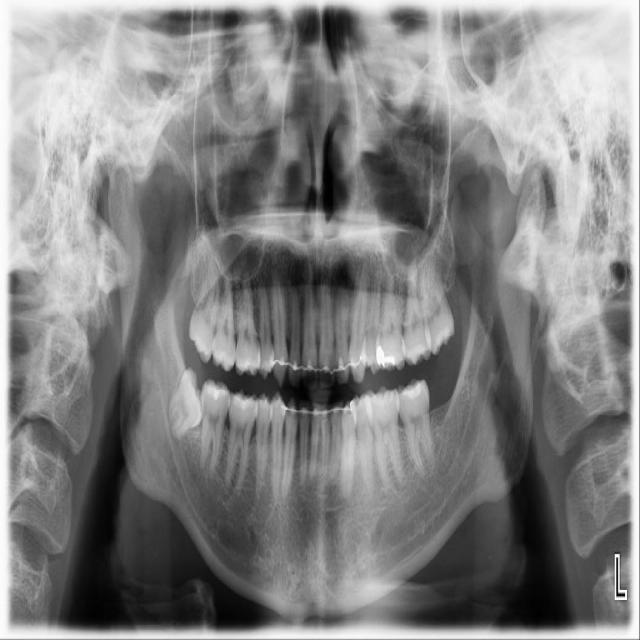Filling: (377, 345, 395, 366), (402, 384, 423, 398), (213, 389, 225, 401)
impacted tooth: (166, 369, 205, 441)
